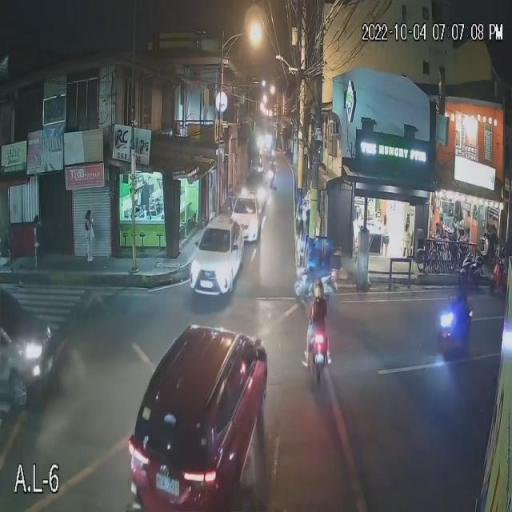helmet: (454, 274, 466, 286), (314, 280, 323, 292)
motorcycle: (436, 292, 473, 355), (306, 321, 332, 386), (456, 253, 485, 283), (490, 258, 506, 297)
rider: (302, 278, 331, 368), (442, 266, 474, 332), (491, 256, 505, 294)
